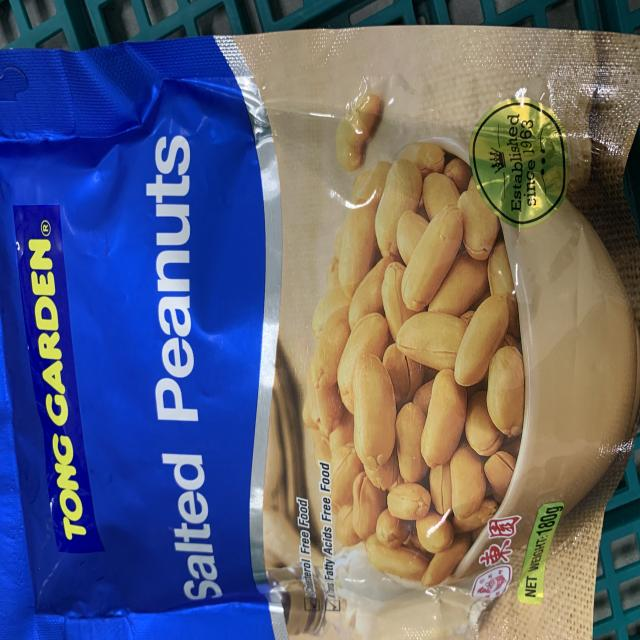object_name: (0, 47, 621, 640)
